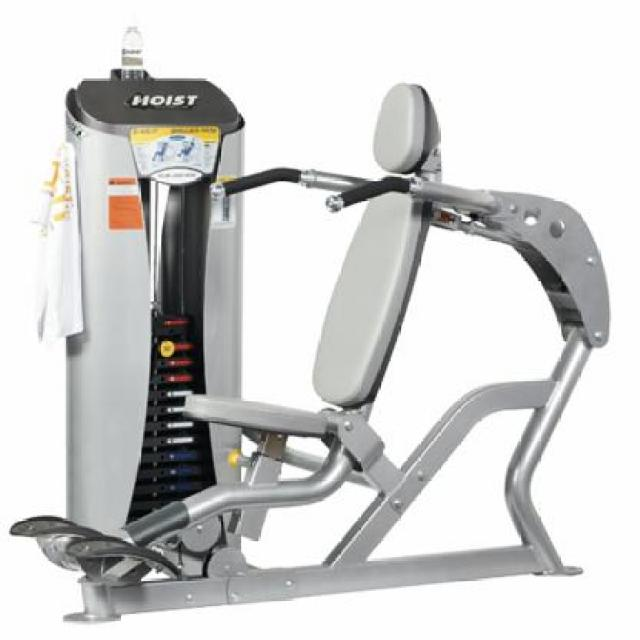shoulder press machine: (6, 15, 617, 632)
